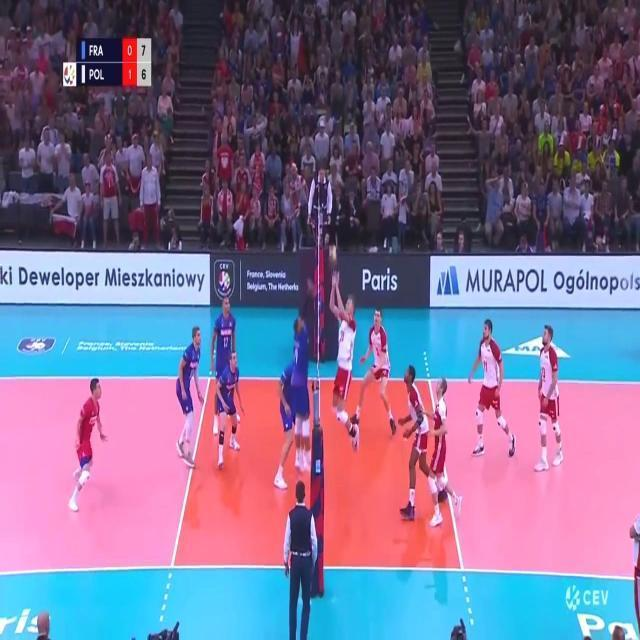volleyball: (328, 245, 338, 264)
